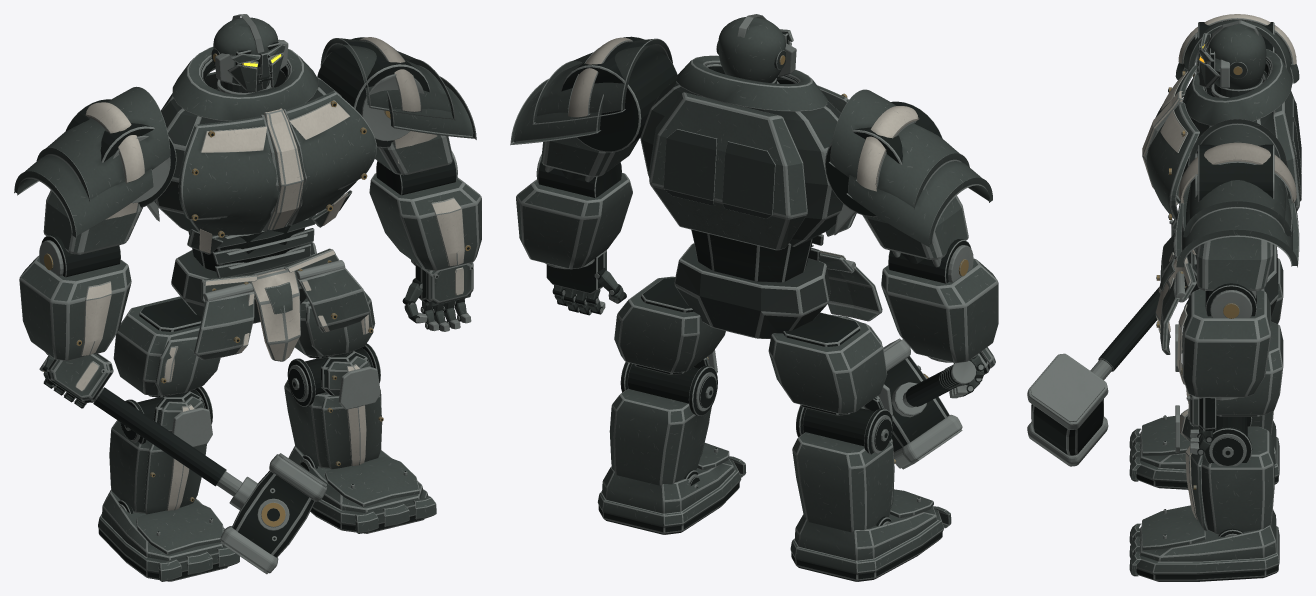
File: tank-t2-warden.glb
3 views of the same model, side by side, from view 1: azimuth 30°, elevation 25°; view 2: azimuth 150°, elevation 25°; view 3: azimuth 270°, elevation 25° (orthographic). The views are drawn at different scales.
Visible parts, largest first — view 1: chest__clay, pauldronR__clay, weaponR__metal, elbowR__clay, elbowL__clay, ankleR__clay, pelvis__metal, ankleL__clay, kneeL__clay, pauldronL__clay, kneeR__clay, hipR__clay (+21 smaller); view 2: chest__clay, chest__metal, pauldronR__clay, pelvis__metal, elbowR__clay, kneeR__clay, elbowL__clay, kneeL__clay, hipR__clay, pauldronL__clay, ankleR__clay, weaponR__metal (+19 smaller); view 3: pauldronL__clay, chest__clay, weaponR__metal, elbowL__clay, ankleL__clay, kneeL__clay, shoulderL__clay, ankleR__clay, head__clay, shoulderL__metal, pauldronR__clay, hipL__clay (+13 smaller).
Boxes of the visible parts, left/top/right/bottom form: chest__clay: left=161, top=47, right=376, bottom=254; pauldronR__clay: left=14, top=86, right=170, bottom=237; weaponR__metal: left=39, top=356, right=326, bottom=574; elbowR__clay: left=19, top=255, right=131, bottom=360; elbowL__clay: left=369, top=173, right=481, bottom=270; ankleR__clay: left=98, top=489, right=239, bottom=581; pelvis__metal: left=171, top=214, right=345, bottom=323; ankleL__clay: left=288, top=446, right=436, bottom=533; kneeL__clay: left=284, top=356, right=382, bottom=469; pauldronL__clay: left=320, top=37, right=476, bottom=139; kneeR__clay: left=109, top=396, right=206, bottom=514; hipR__clay: left=113, top=296, right=220, bottom=396; chest__clay: left=649, top=55, right=856, bottom=250; chest__metal: left=640, top=63, right=855, bottom=246; pauldronR__clay: left=829, top=89, right=992, bottom=247; pelvis__metal: left=674, top=229, right=855, bottom=339; elbowR__clay: left=881, top=258, right=998, bottom=363; kneeR__clay: left=792, top=396, right=894, bottom=532; elbowL__clay: left=516, top=173, right=632, bottom=269; kneeL__clay: left=609, top=357, right=711, bottom=485; hipR__clay: left=768, top=312, right=887, bottom=413; pauldronL__clay: left=510, top=37, right=672, bottom=145; ankleR__clay: left=790, top=489, right=951, bottom=574; weaponR__metal: left=883, top=338, right=976, bottom=469; pauldronL__clay: left=1175, top=119, right=1299, bottom=267; chest__clay: left=1142, top=49, right=1299, bottom=254; weaponR__metal: left=1027, top=253, right=1189, bottom=466; elbowL__clay: left=1177, top=289, right=1270, bottom=397; ankleL__clay: left=1129, top=505, right=1279, bottom=576; kneeL__clay: left=1180, top=409, right=1274, bottom=534; shoulderL__clay: left=1196, top=237, right=1272, bottom=290; ankleR__clay: left=1129, top=415, right=1279, bottom=482; head__clay: left=1199, top=23, right=1266, bottom=89; shoulderL__metal: left=1195, top=144, right=1274, bottom=298; pauldronR__clay: left=1175, top=14, right=1299, bottom=83; hipL__clay: left=1216, top=321, right=1283, bottom=415.
Bounding box in the file's own units: 3.6 × 3.98 × 2.01.
Materials: 11 (10 with a texture image).
